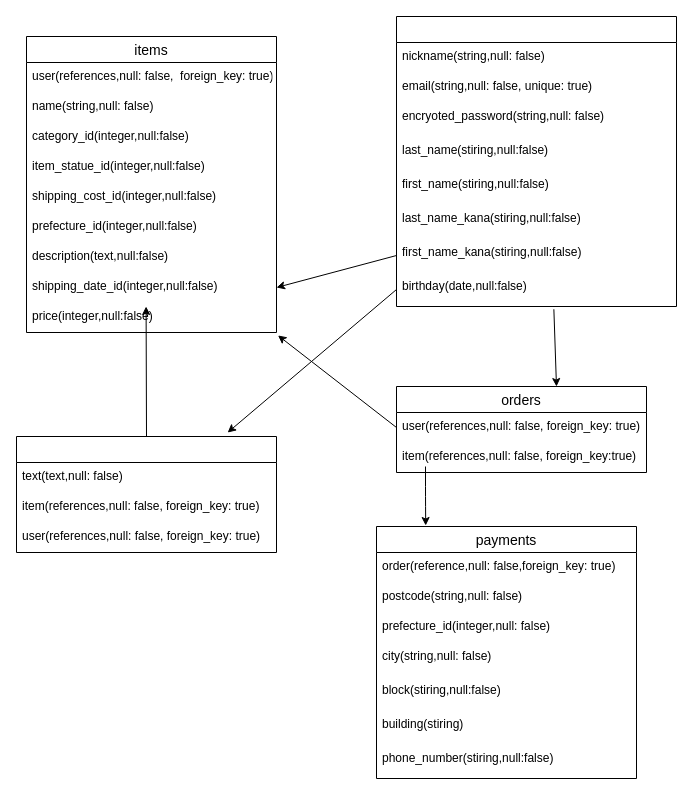
This 693x795 diagram has some shape labels left out. The box of each missing label's shape, as (x1, y1, x2, y2) in pixels:
comments: (16, 436, 276, 552)
users: (396, 16, 676, 306)
